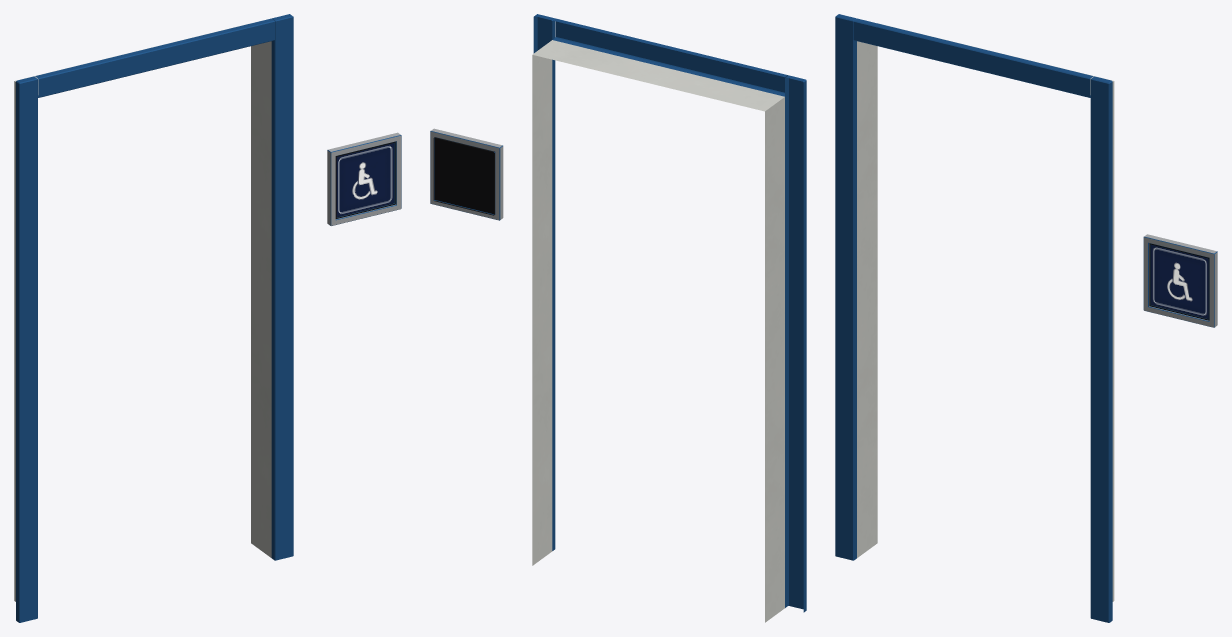
The model's file is gteki_toilet_entrance_accessible.glb.
3 views of the same model, side by side, from view 1: azimuth 30°, elevation 25°; view 2: azimuth 150°, elevation 25°; view 3: azimuth 330°, elevation 25° (orthographic).
Visible parts, largest first — view 1: VIS_trim, VIS_reveal, VIS_faces, VIS_frame; view 2: VIS_reveal, VIS_trim, VIS_frame; view 3: VIS_trim, VIS_reveal, VIS_faces, VIS_frame.
Boxes of the visible parts, left/top/right/bottom form: VIS_trim: left=16, top=14, right=293, bottom=622; VIS_reveal: left=14, top=23, right=271, bottom=601; VIS_faces: left=336, top=143, right=393, bottom=216; VIS_frame: left=327, top=132, right=401, bottom=225; VIS_reveal: left=532, top=40, right=784, bottom=622; VIS_trim: left=533, top=14, right=806, bottom=612; VIS_frame: left=430, top=128, right=503, bottom=220; VIS_trim: left=835, top=14, right=1112, bottom=622; VIS_reveal: left=857, top=23, right=1114, bottom=601; VIS_faces: left=1151, top=245, right=1208, bottom=318; VIS_frame: left=1143, top=234, right=1217, bottom=327.
Size of what is drawn, in the model's own units: 1.61 by 2.18 by 0.185.
5 materials, 2 textured.
